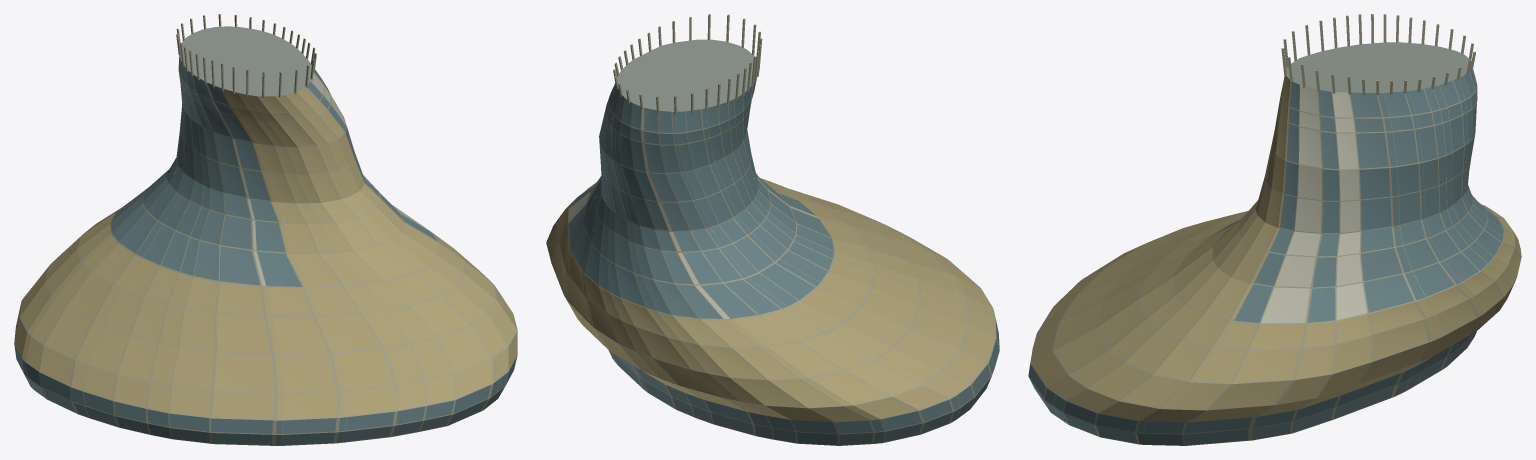
The model's file is cite-du-vin-bordeaux-far.glb.
3 renders of one model, left to right at view 1: azimuth 30°, elevation 25°; view 2: azimuth 150°, elevation 25°; view 3: azimuth 270°, elevation 25°, orthographic. The views are drawn at different scales.
Visible parts, largest first — view 1: cite-du-vin-bordeaux-0-gold, cite-du-vin-bordeaux-0-glass, cite-du-vin-bordeaux-0-rib, cite-du-vin-bordeaux-0-roof, cite-du-vin-bordeaux-0-silver; view 2: cite-du-vin-bordeaux-0-gold, cite-du-vin-bordeaux-0-glass, cite-du-vin-bordeaux-0-rib, cite-du-vin-bordeaux-0-roof, cite-du-vin-bordeaux-0-silver; view 3: cite-du-vin-bordeaux-0-gold, cite-du-vin-bordeaux-0-glass, cite-du-vin-bordeaux-0-rib, cite-du-vin-bordeaux-0-silver, cite-du-vin-bordeaux-0-roof.
Boxes of the visible parts, box(x1,y1,x2,y2) form: cite-du-vin-bordeaux-0-gold: box(14, 87, 516, 419); cite-du-vin-bordeaux-0-glass: box(14, 58, 516, 445); cite-du-vin-bordeaux-0-rib: box(14, 14, 517, 445); cite-du-vin-bordeaux-0-roof: box(181, 26, 311, 96); cite-du-vin-bordeaux-0-silver: box(119, 73, 429, 285); cite-du-vin-bordeaux-0-gold: box(546, 178, 995, 421); cite-du-vin-bordeaux-0-glass: box(568, 81, 999, 445); cite-du-vin-bordeaux-0-rib: box(546, 14, 999, 445); cite-du-vin-bordeaux-0-roof: box(617, 39, 754, 111); cite-du-vin-bordeaux-0-silver: box(568, 87, 817, 318); cite-du-vin-bordeaux-0-gold: box(1031, 75, 1521, 421); cite-du-vin-bordeaux-0-glass: box(1028, 66, 1503, 445); cite-du-vin-bordeaux-0-rib: box(1028, 14, 1521, 445); cite-du-vin-bordeaux-0-silver: box(1261, 68, 1477, 323); cite-du-vin-bordeaux-0-roof: box(1286, 42, 1471, 92).
Size of the model in its own units: 80.83 by 55.02 by 76.53.
